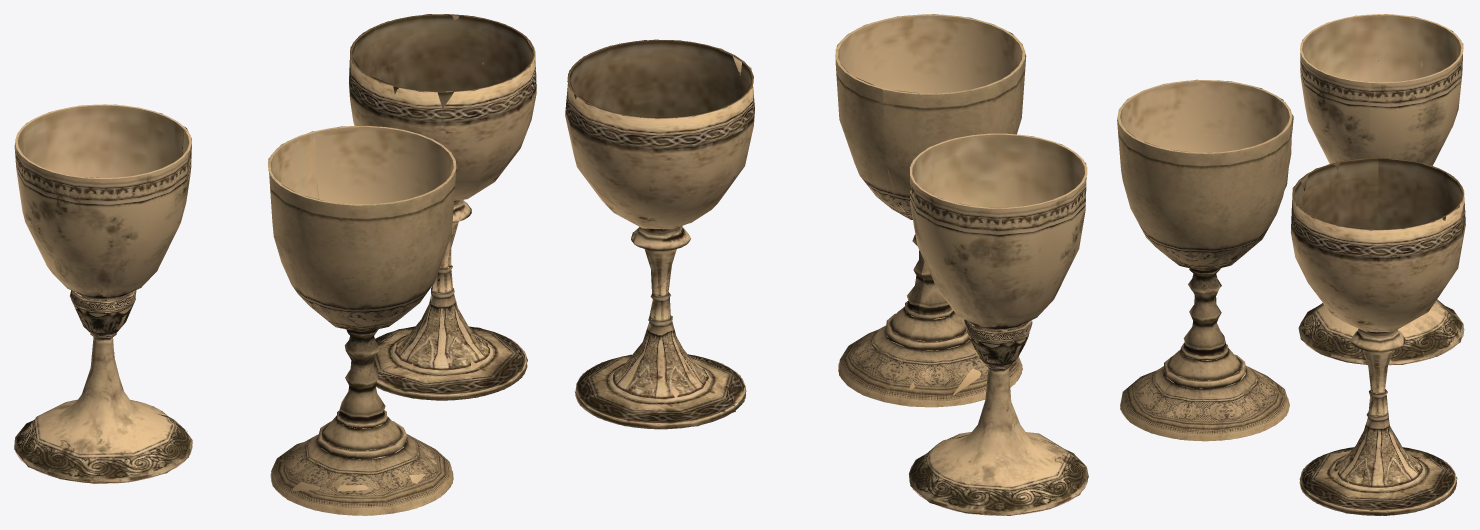
The model's file is ph_brass_goblets.glb.
3 views of the same model, side by side, from view 1: azimuth 30°, elevation 25°; view 2: azimuth 150°, elevation 25°; view 3: azimuth 270°, elevation 25° (orthographic). The views are drawn at different scales.
Visible parts, largest first — view 1: brass_goblet_01; view 2: brass_goblet_01; view 3: brass_goblet_01.
Boxes of the visible parts, <box> form: brass_goblet_01: <box>14,14,536,515</box>; brass_goblet_01: <box>565,14,1088,515</box>; brass_goblet_01: <box>1117,14,1465,515</box>.
Size of the model in its own units: 0.4544 by 0.2734 by 0.298.
3 materials, 3 textured.
